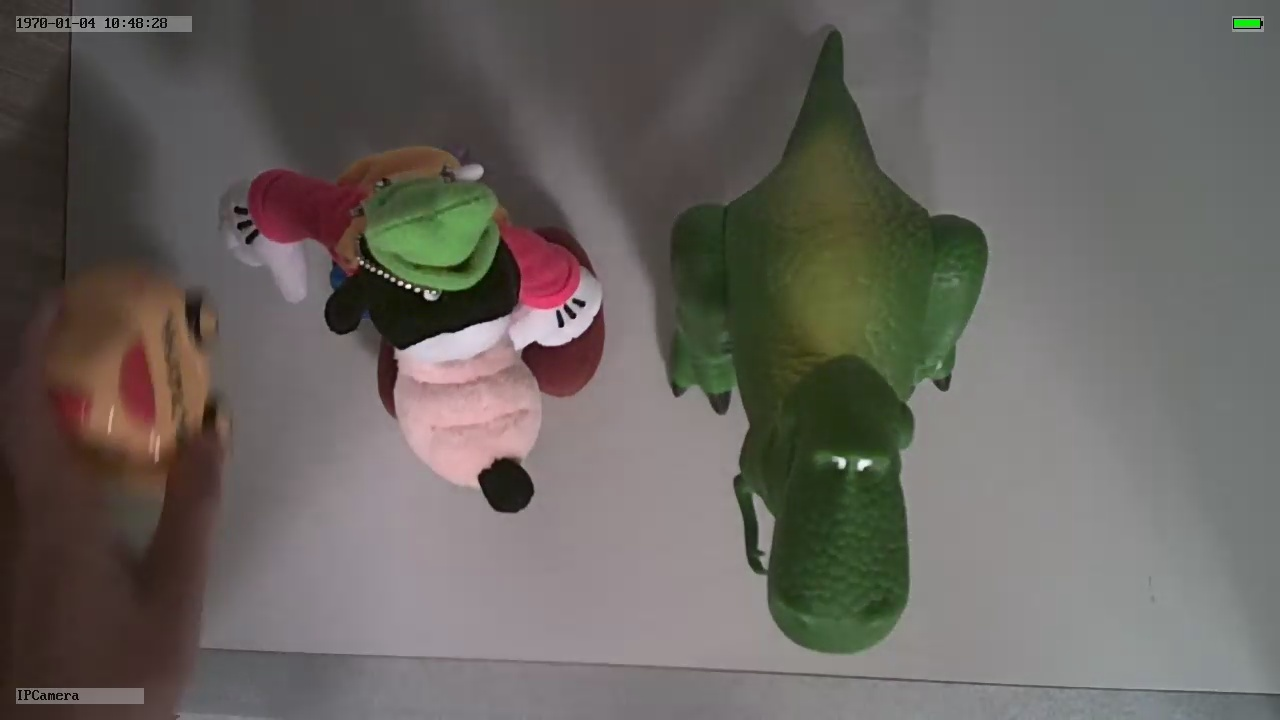goofy: (222, 142, 612, 522)
rex: (666, 105, 987, 655)
